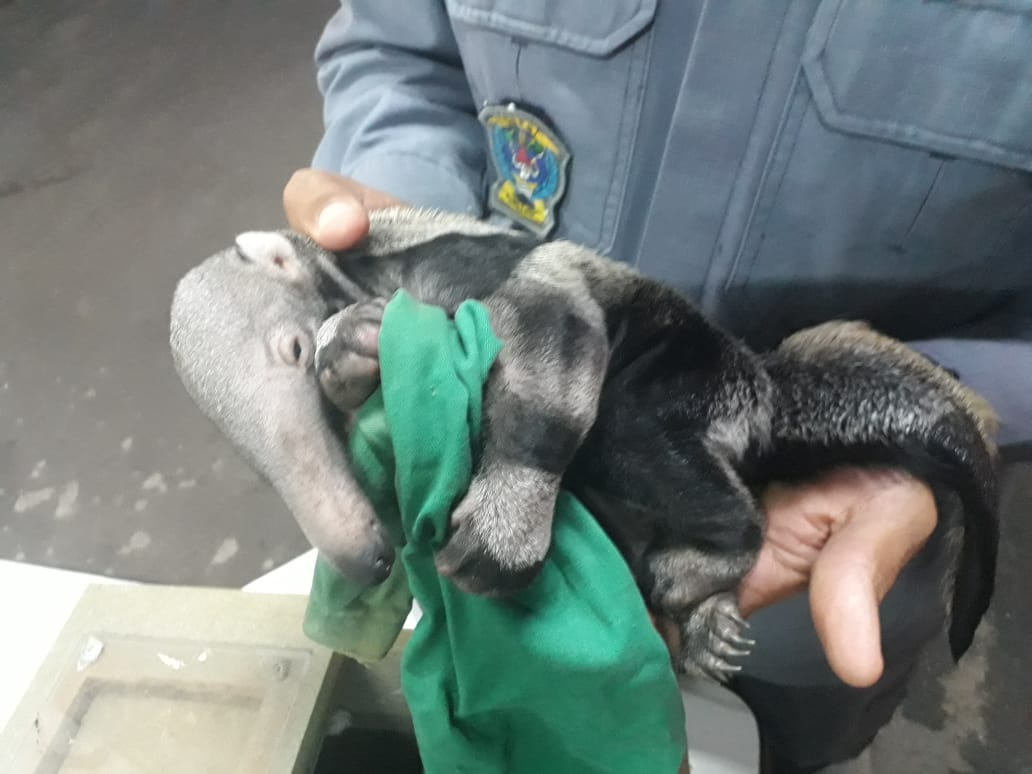TamanduaBandeira: (154, 201, 1002, 687)
